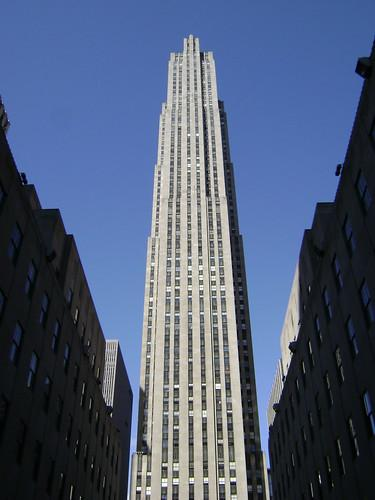building: (127, 31, 276, 500)
